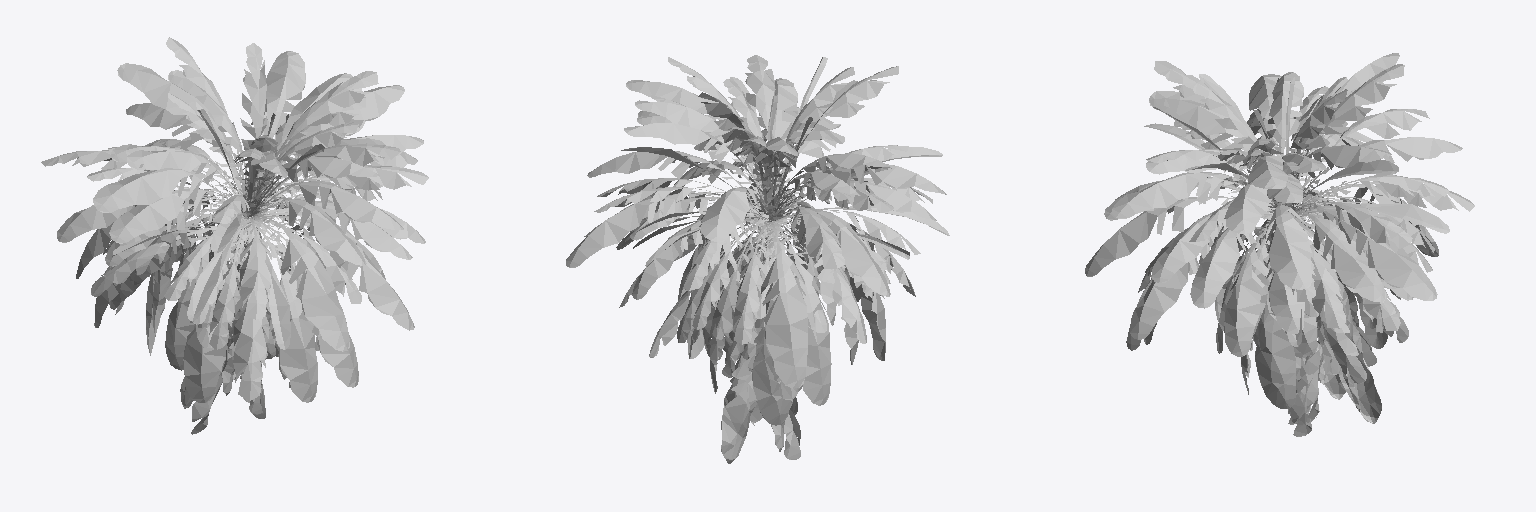
Rendered from leaf4.obj.
3 renders of one model, left to right at view 1: azimuth 30°, elevation 25°; view 2: azimuth 150°, elevation 25°; view 3: azimuth 270°, elevation 25°, orthographic.
Parts seen in each view (by area): view 1: Palm_Tree_M_01_L.002; view 2: Palm_Tree_M_01_L.002; view 3: Palm_Tree_M_01_L.002.
Boxes of the visible parts, x1=… form: Palm_Tree_M_01_L.002: x1=41, y1=37, x2=428, y2=434; Palm_Tree_M_01_L.002: x1=566, y1=55, x2=949, y2=463; Palm_Tree_M_01_L.002: x1=1085, y1=53, x2=1474, y2=436.
Bounding box in the file's own units: 7.98 × 8.13 × 7.96.